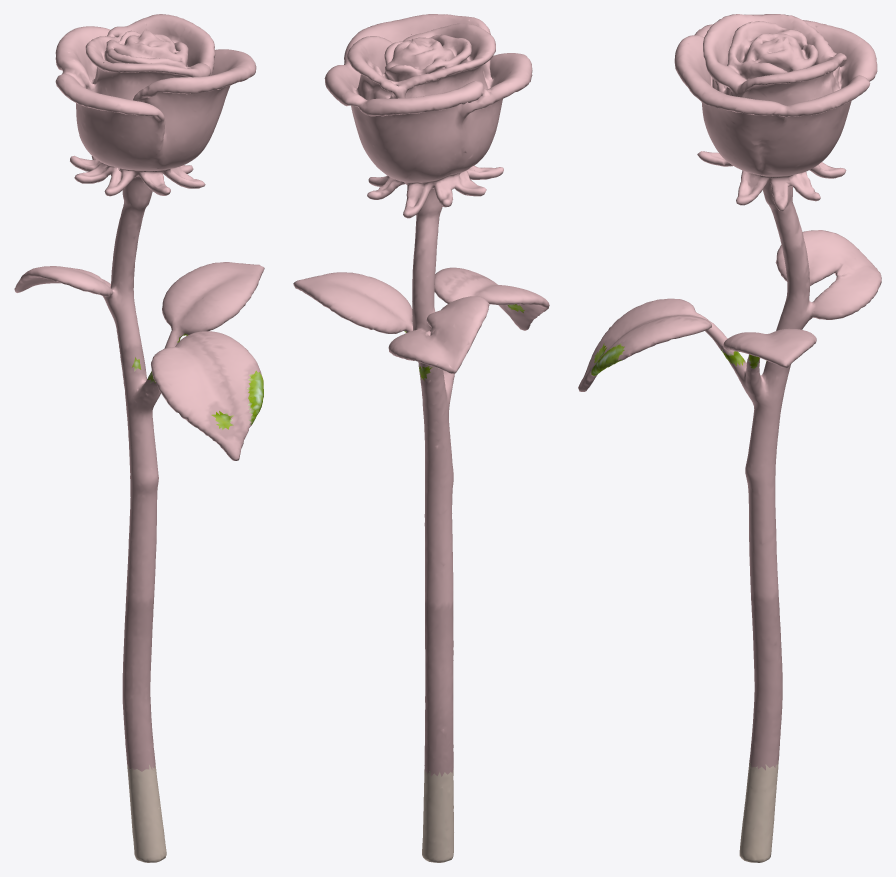
Rendered from rose-ai.glb.
The picture shows the model from 3 angles, left to right: view 1: azimuth 30°, elevation 25°; view 2: azimuth 150°, elevation 25°; view 3: azimuth 270°, elevation 25°; orthographic projection.
Visible parts, largest first — view 1: petal, stem; view 2: petal, stem; view 3: petal, stem.
Part boxes in pixels (left/top/right/bottom): petal: left=14, top=14, right=264, bottom=771; stem: left=127, top=333, right=263, bottom=862; petal: left=293, top=14, right=549, bottom=776; stem: left=404, top=304, right=524, bottom=862; petal: left=578, top=14, right=881, bottom=770; stem: left=591, top=343, right=778, bottom=862.
Bounding box in the file's own units: 0.5477 × 2.03 × 0.665.
